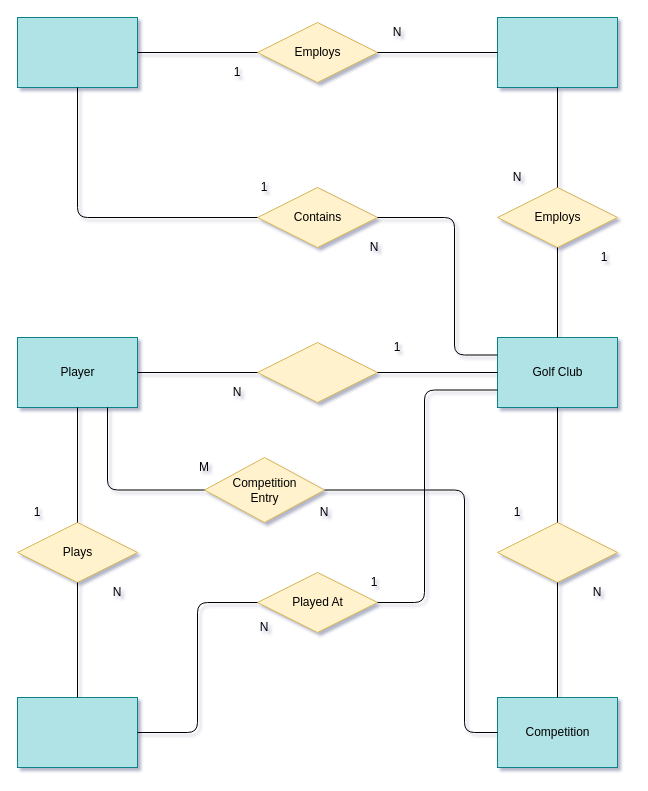
Some shapes in this 648 by 791 pixel diagram are drawn without their labels. Each missing label, with the centre of its shape:
"Employee" goes at point (557, 52).
"Hosts" goes at point (557, 552).
"Is Member Of" goes at point (317, 372).
"Province" goes at point (77, 52).
"Round" goes at point (77, 732).
